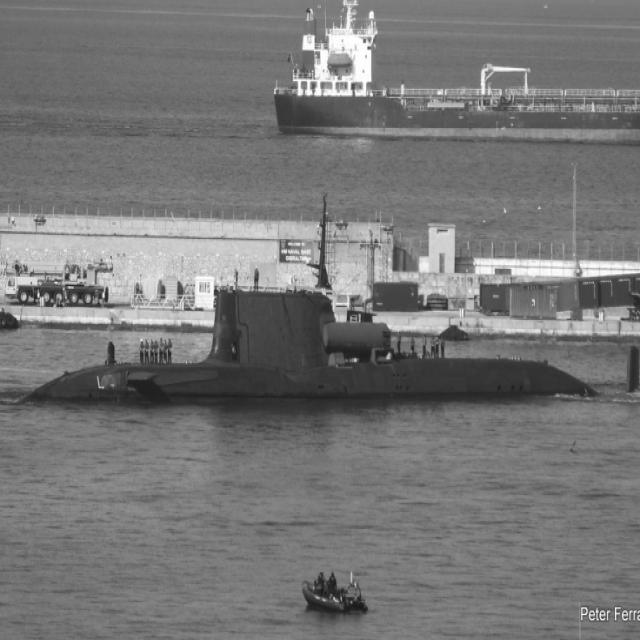submarine: (15, 294, 597, 397)
